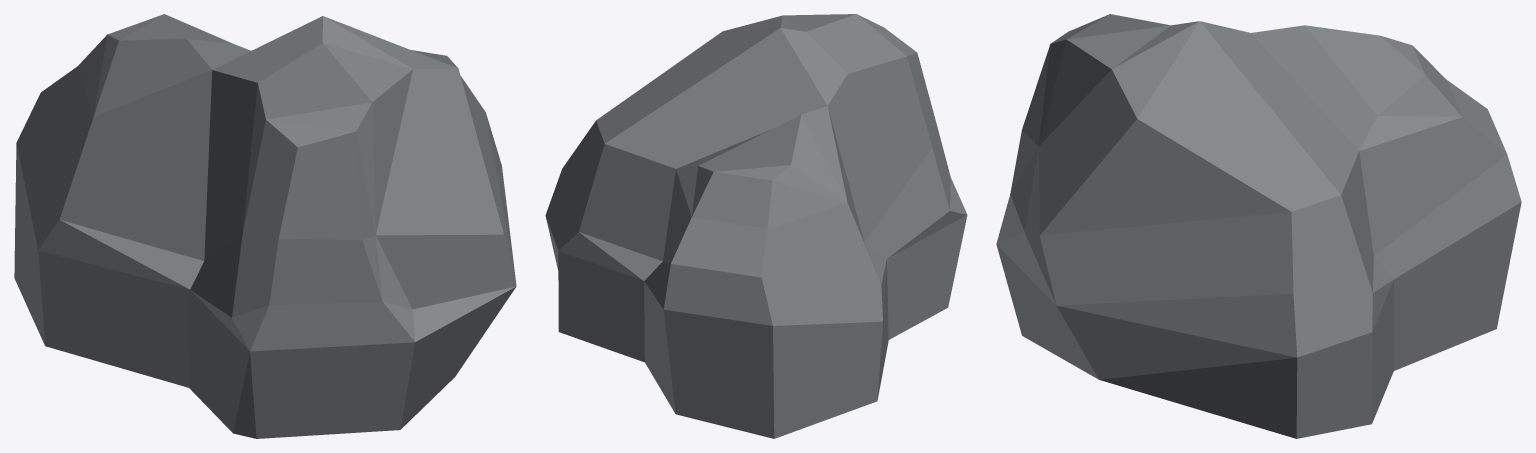
Rendered from Rock_Round_l_02.fbx.
3 renders of one model, left to right at view 1: azimuth 30°, elevation 25°; view 2: azimuth 150°, elevation 25°; view 3: azimuth 270°, elevation 25°, orthographic. The views are drawn at different scales.
Parts seen in each view (by area): view 1: Rock_Round_l_02; view 2: Rock_Round_l_02; view 3: Rock_Round_l_02.
Boxes of the visible parts, x1,y1,x2,y2 form: Rock_Round_l_02: (14, 14, 516, 438); Rock_Round_l_02: (545, 14, 967, 438); Rock_Round_l_02: (996, 14, 1521, 438).
Bounding box in the file's own units: 214 × 161 × 238.
